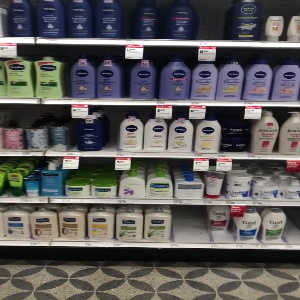void: (168, 204, 209, 245)
